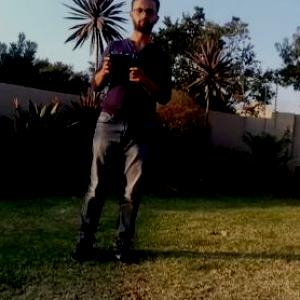follow: (65, 0, 176, 269)
